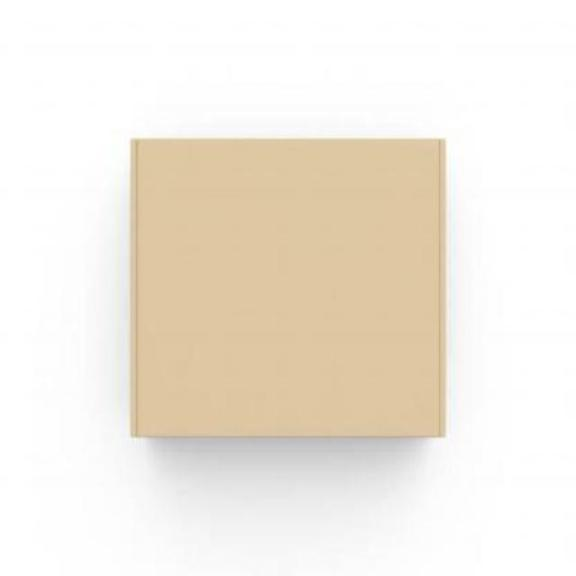Kertas: (130, 139, 446, 436)
